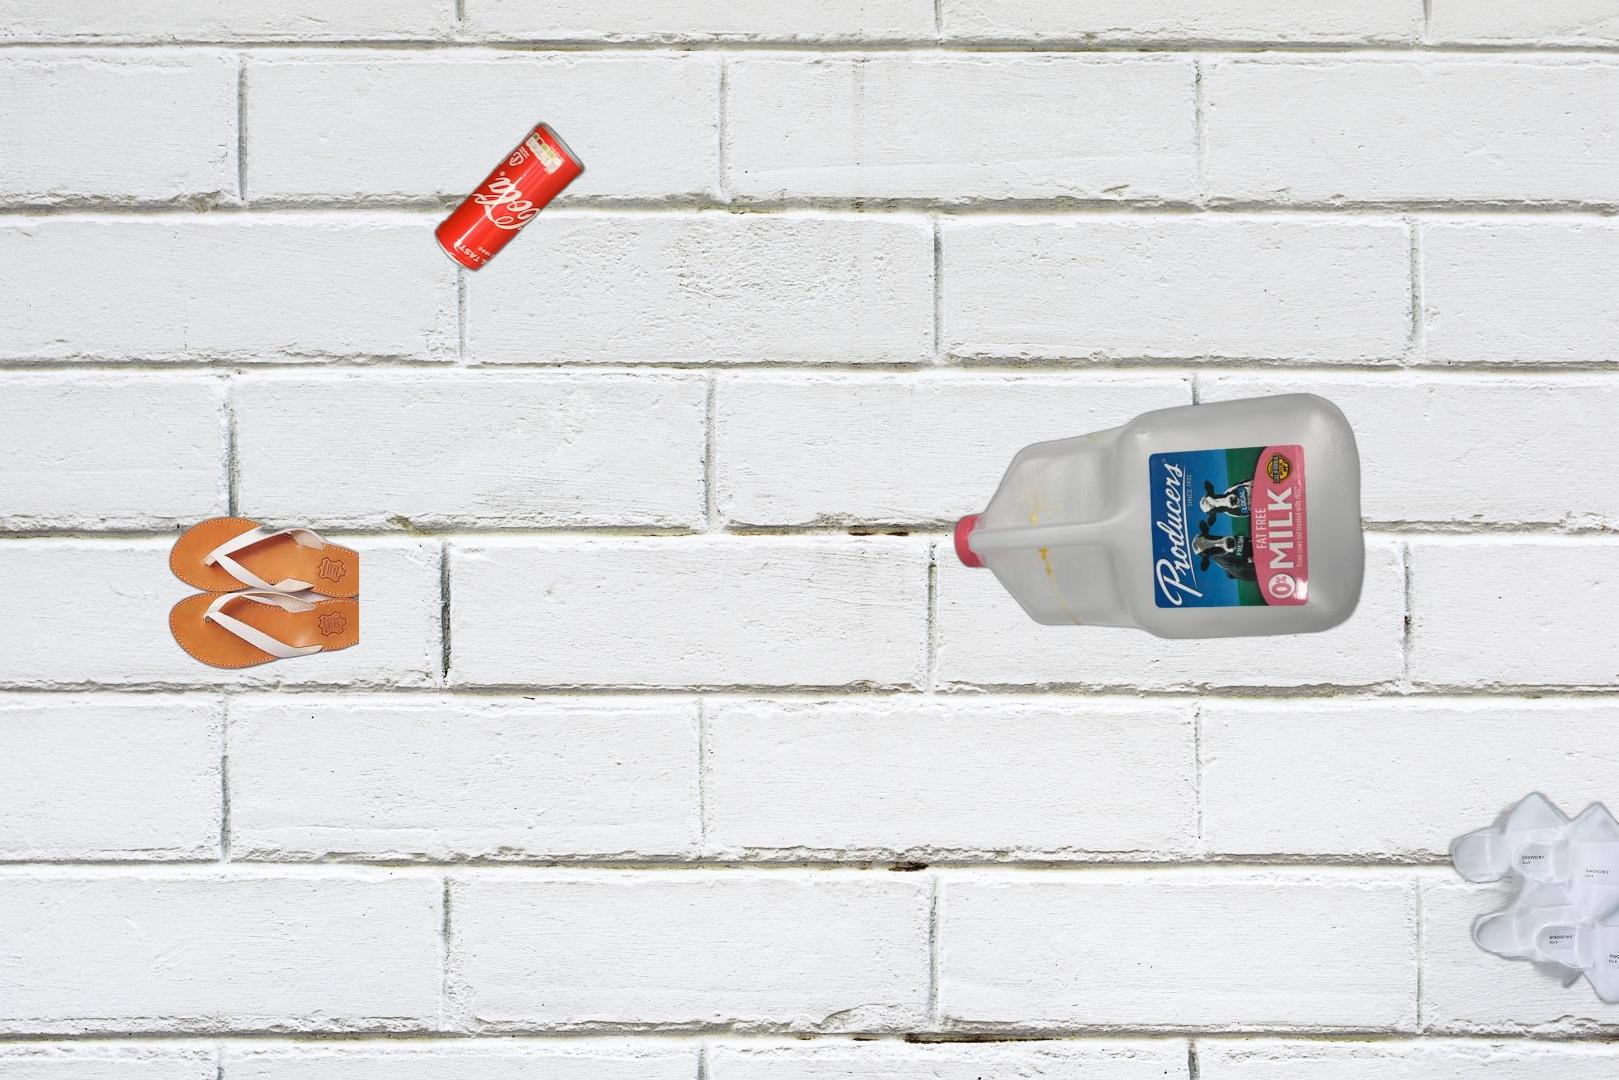glass: (1585, 817, 1619, 1074)
metal-cans: (432, 116, 589, 277)
plastic-bottles: (949, 391, 1369, 642)
shoes: (166, 513, 359, 673)
trash: (1444, 786, 1619, 1011)
